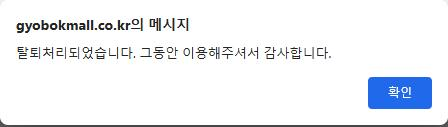button: (369, 77, 432, 110)
popup: (1, 1, 448, 126)
